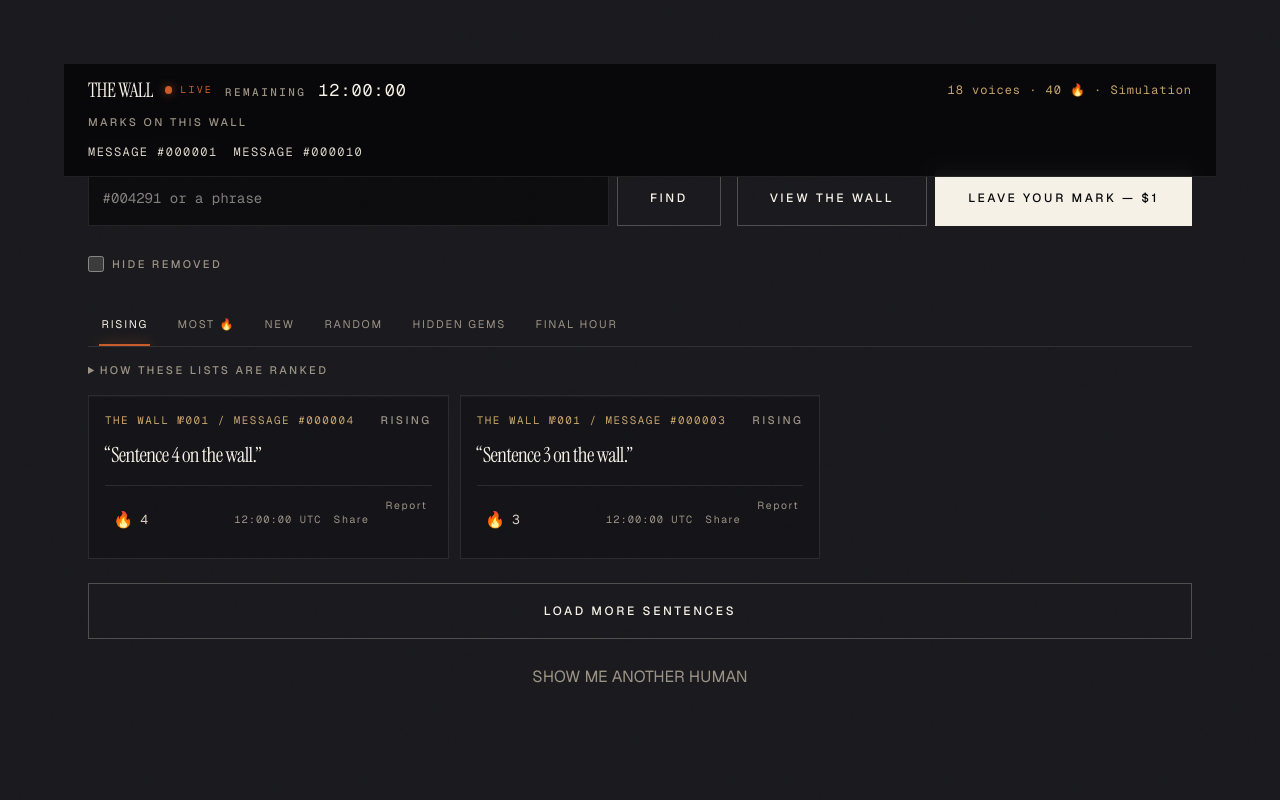
Test: live wall › appends the next page instead of replacing the wall
The width and height of the screenshot is (1280, 800).
Click the button "Load more sentences".
click(640, 612)  # box [88,584,1192,640]
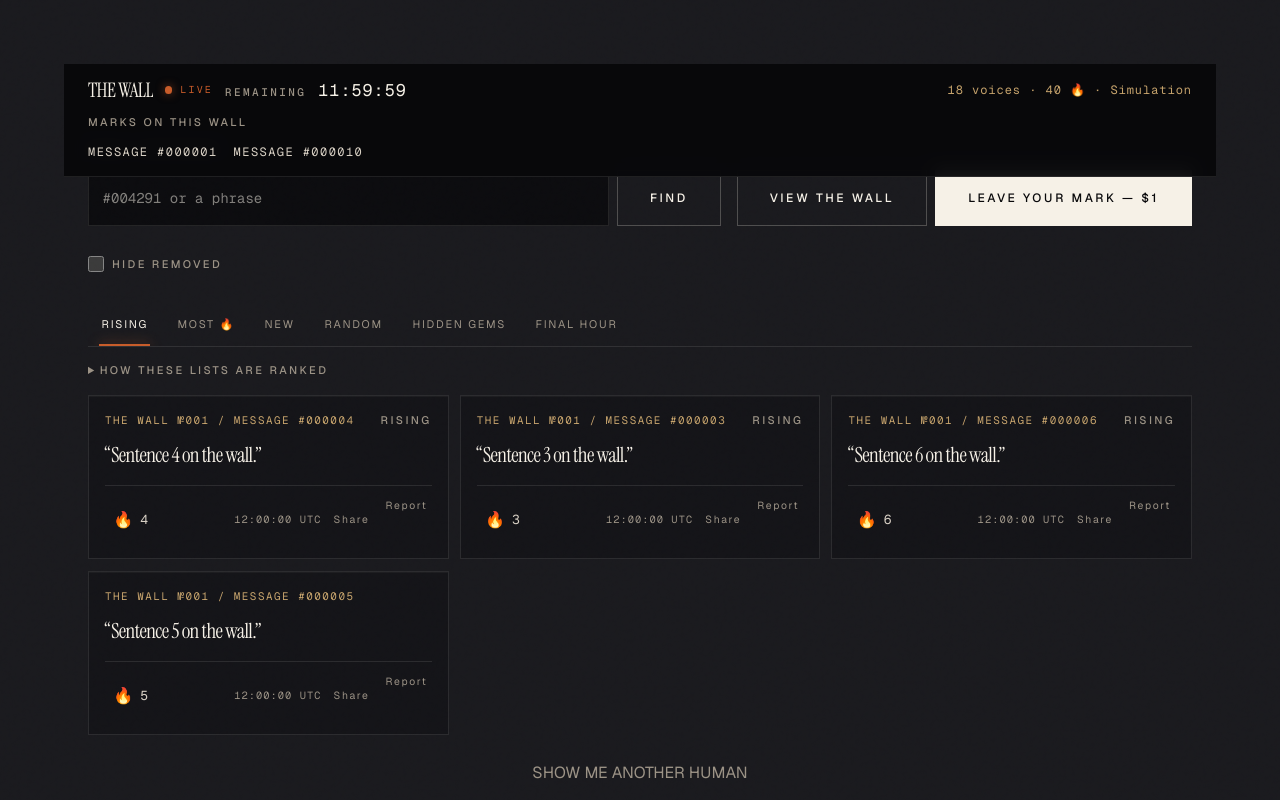
expect the text "“Sentence 4 on the wall.”" is shown: met, box [105,441,261,468]
expect the text "“Sentence 6 on the wall.”" is shown: met, box [848,441,1005,468]
